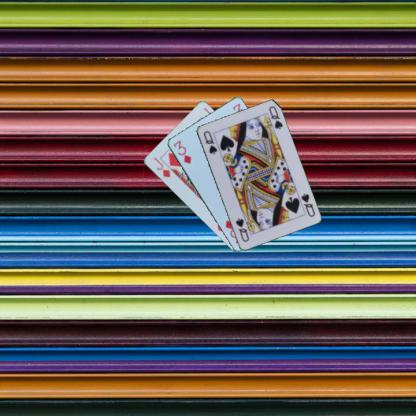3d: (170, 138, 192, 165)
Jd: (150, 154, 172, 179)
Qs: (298, 190, 316, 218), (201, 128, 219, 155)
